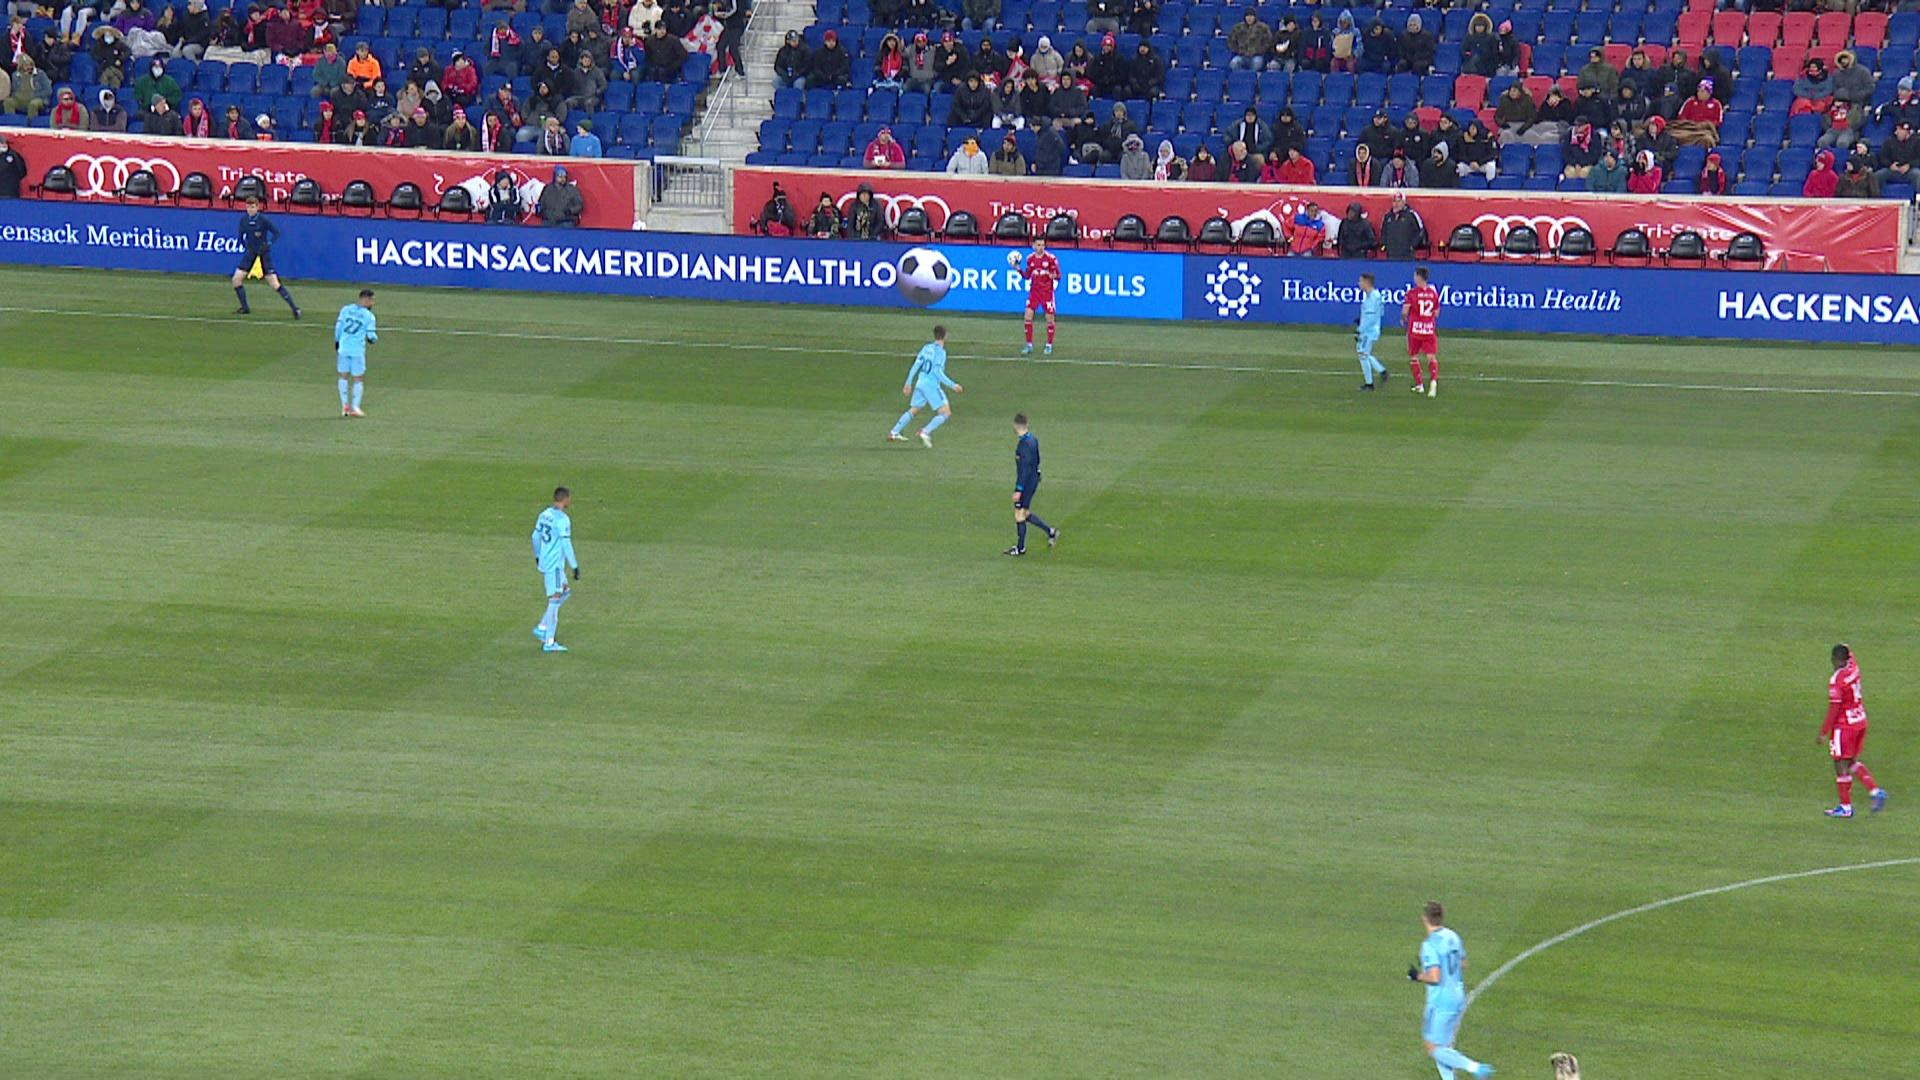football: (1006, 250, 1023, 264)
